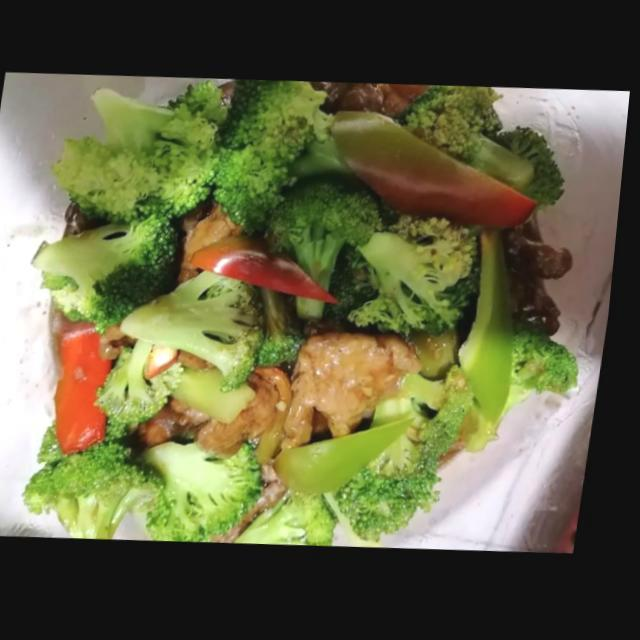left_over_food: (291, 334, 432, 449), (142, 372, 286, 459)
